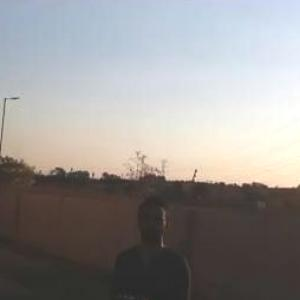follow: (107, 173, 201, 298)
